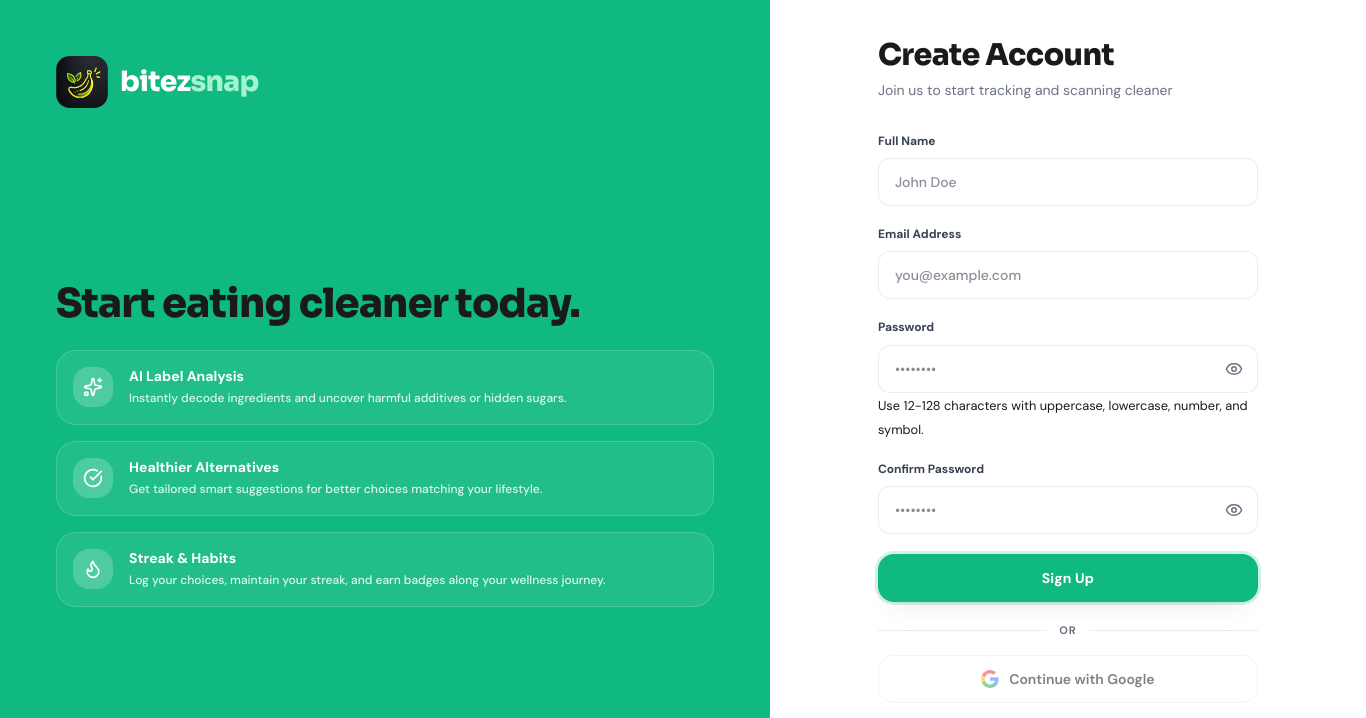
Test: SignUp › shows password mismatch error
The image size is (1366, 718).
Step 1. Type "John" into the field labelled "Full Name" → (1068, 182), box [878,158,1258,206]
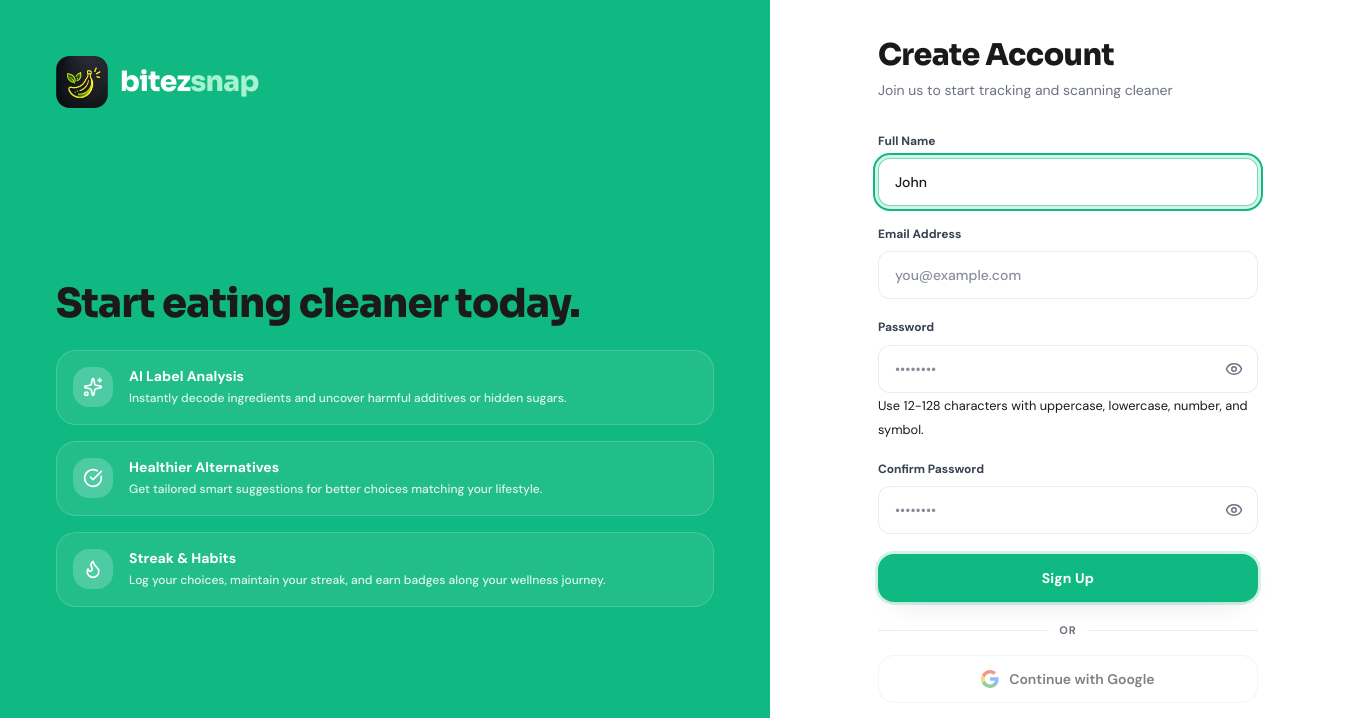
Step 2. Type "a@b.com" into the field labelled "Email Address" → (1068, 275), box [878,251,1258,299]
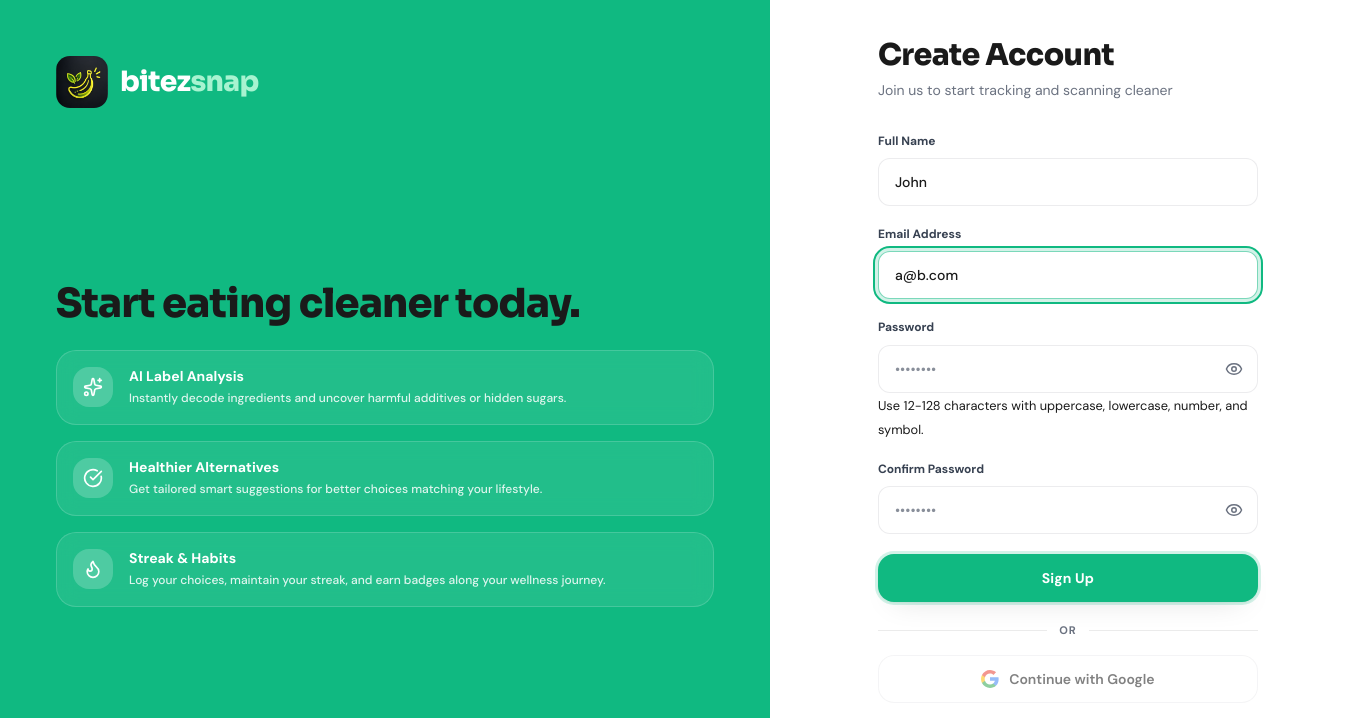
Step 3. Type "StrongPass123!" into the password field labelled "Password" → (1068, 369), box [878,345,1258,393]
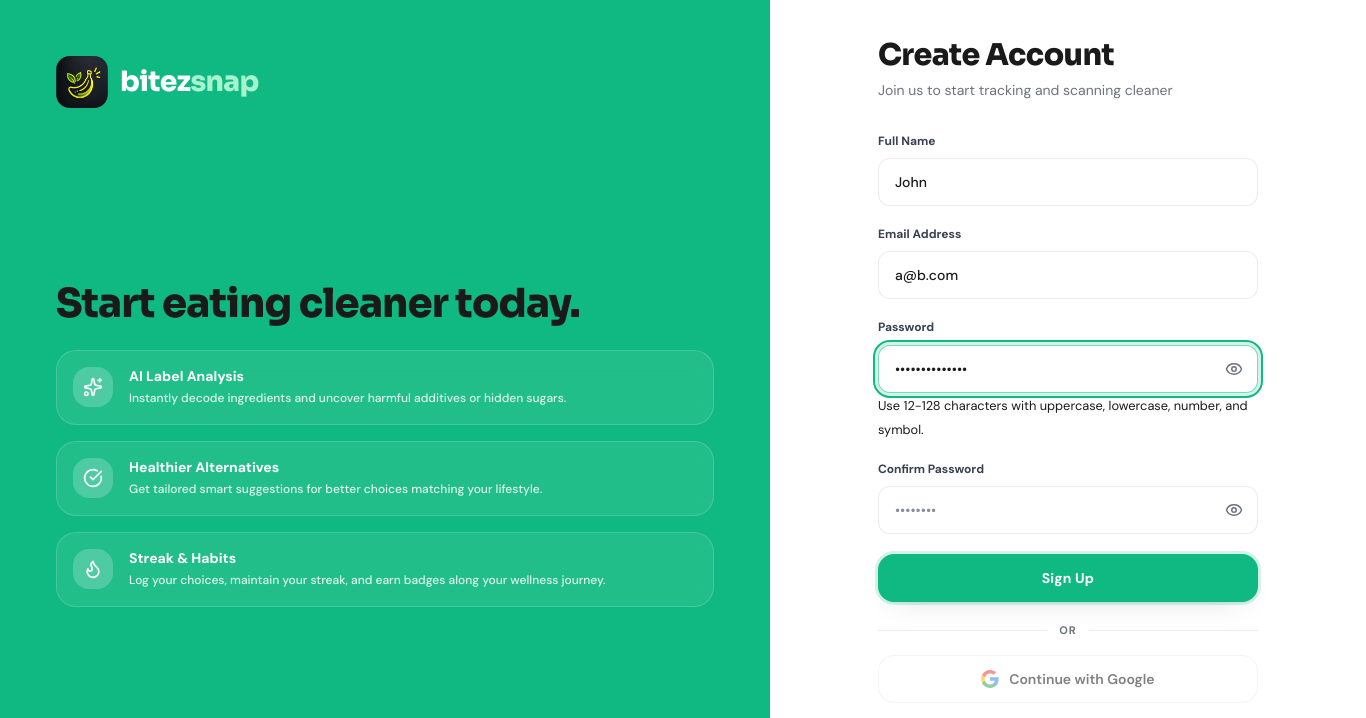
Step 4. Type "OtherPass123!" into the password field labelled "Confirm Password" → (1068, 510), box [878,486,1258,534]
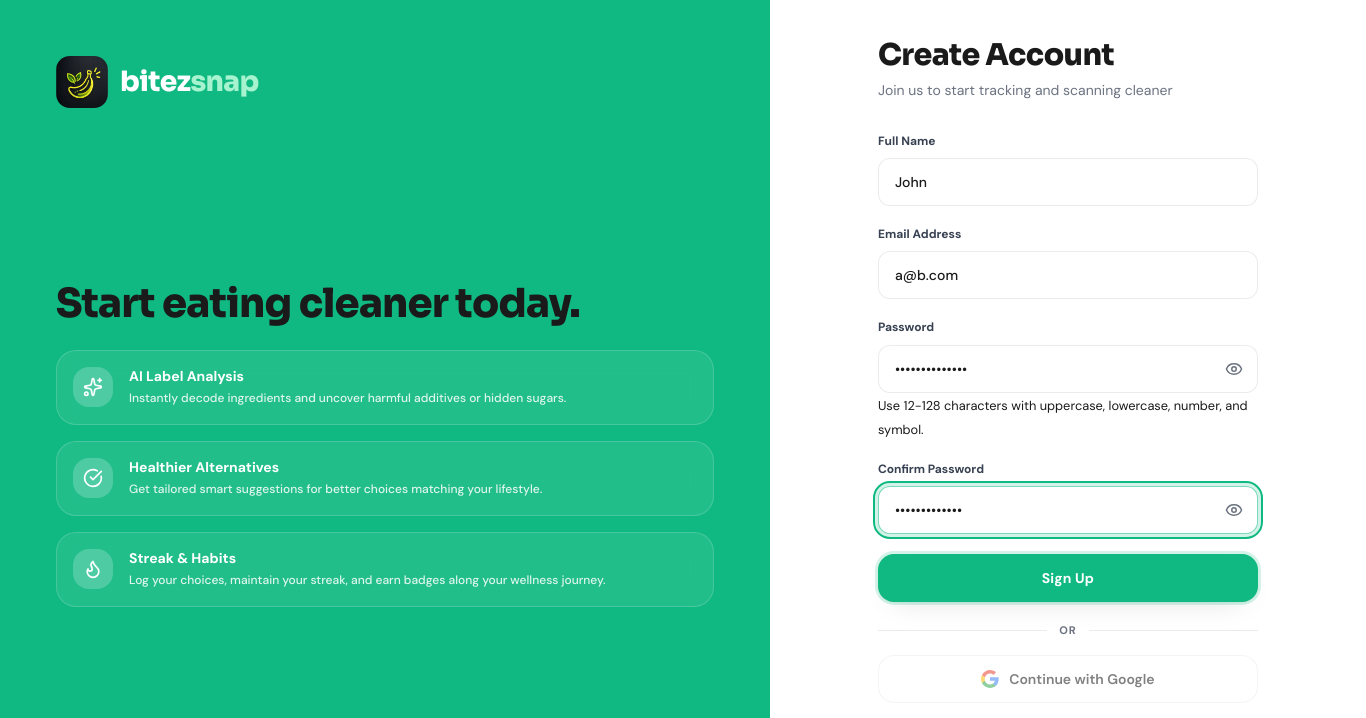
Step 5. Click the button "Sign Up" → (1068, 578), box [878,554,1258,602]
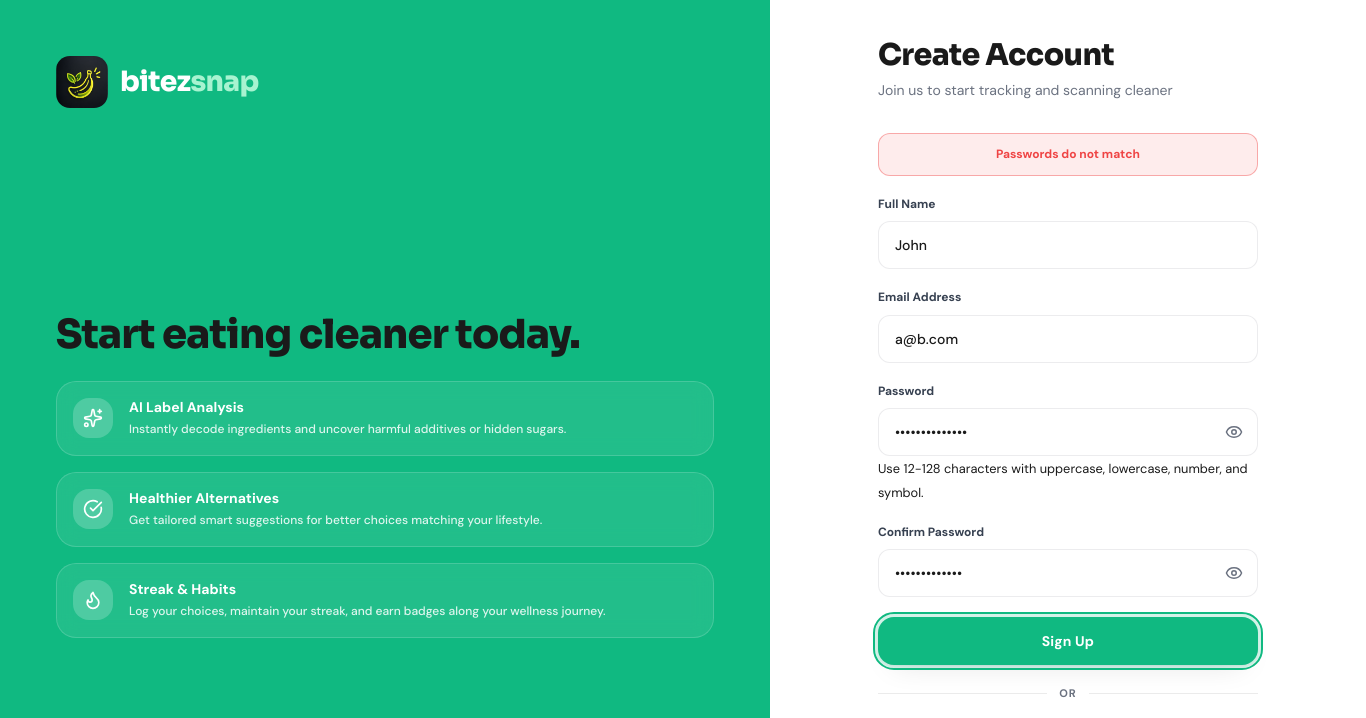
expect the text "Passwords do not match" is shown: met, box [878,132,1258,176]
